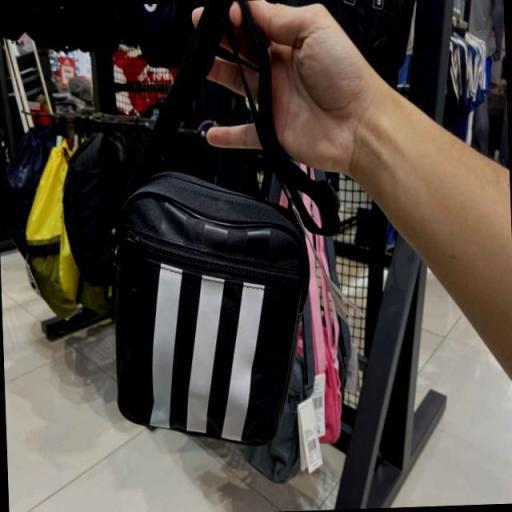bag: (93, 78, 330, 484)
